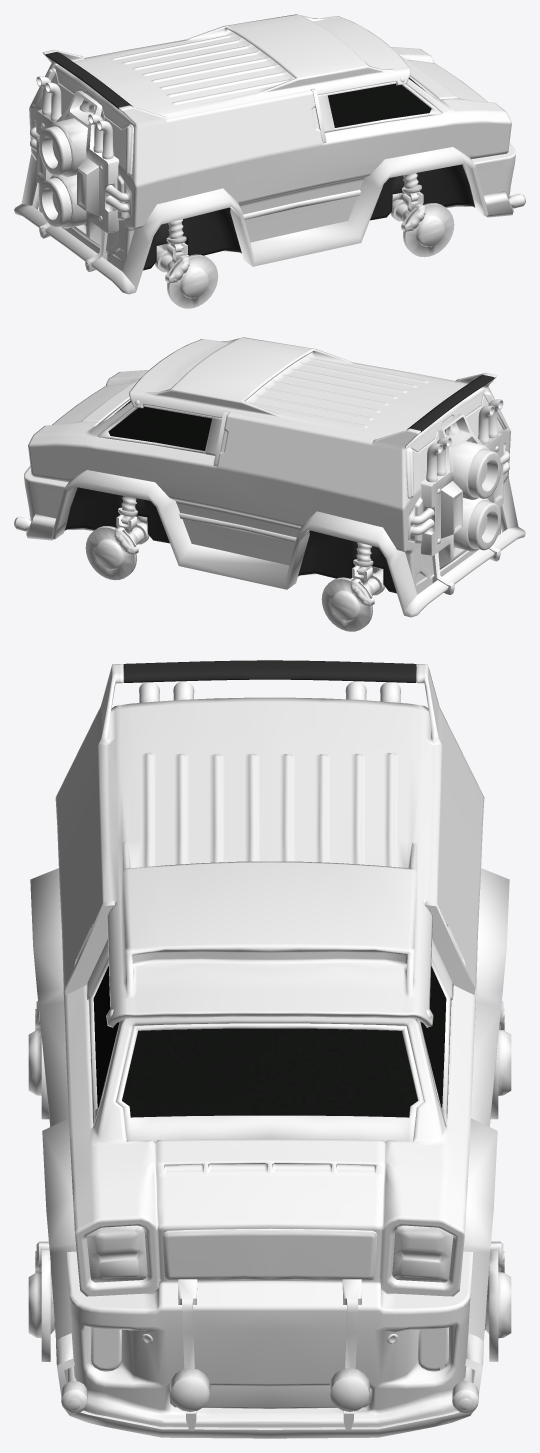
The model's file is car_merc.glb.
3 renders of one model, top to bottom at view 1: azimuth 30°, elevation 25°; view 2: azimuth 150°, elevation 25°; view 3: azimuth 270°, elevation 25°, orthographic. The views are drawn at different scales.
Parts seen in each view (by area): view 1: Merc_Body, Merc_Chassis; view 2: Merc_Body, Merc_Chassis; view 3: Merc_Body, Merc_Chassis.
Boxes of the visible parts, bbox=[...] form: Merc_Body: bbox=[29, 14, 515, 271]; Merc_Chassis: bbox=[14, 67, 525, 308]; Merc_Body: bbox=[24, 337, 510, 594]; Merc_Chassis: bbox=[14, 390, 525, 631]; Merc_Body: bbox=[55, 660, 484, 1427]; Merc_Chassis: bbox=[28, 681, 511, 1438].
Size of the model in its own units: 1.46 by 0.6524 by 0.6908.
Materials: 2 (1 with a texture image).
